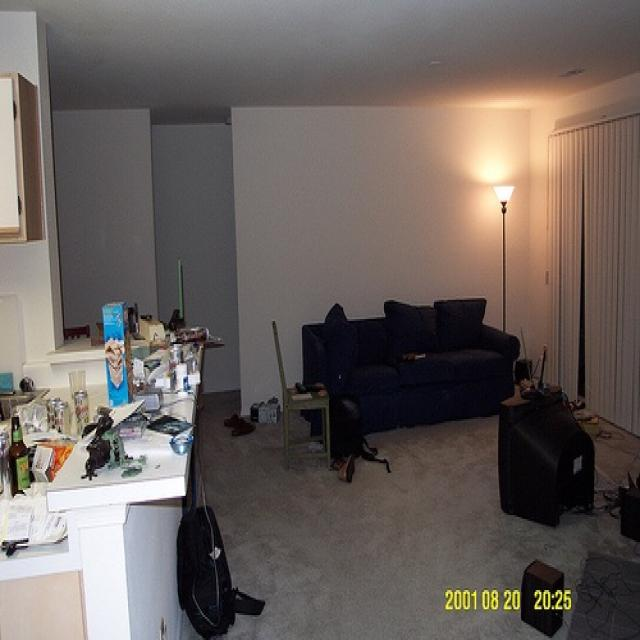bottle: (9, 416, 32, 499)
chair: (271, 320, 333, 472)
sofa: (300, 295, 522, 432)
tvmonitor: (499, 388, 596, 532)
